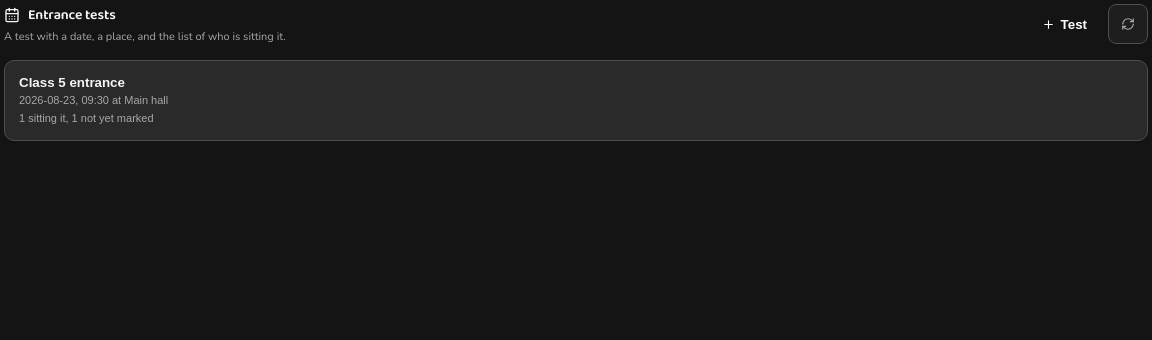
Test: an applicant whose application has gone is still shown, not silently dropped
Click the text "Class 5 entrance".
click(72, 82)  # box [19,75,125,90]
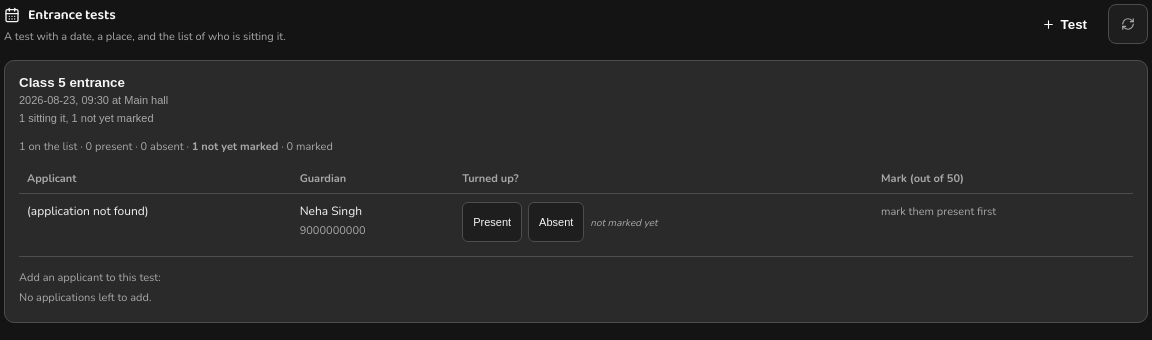
expect the text "(application not found)" is shown: met, box [19,194,292,257]
